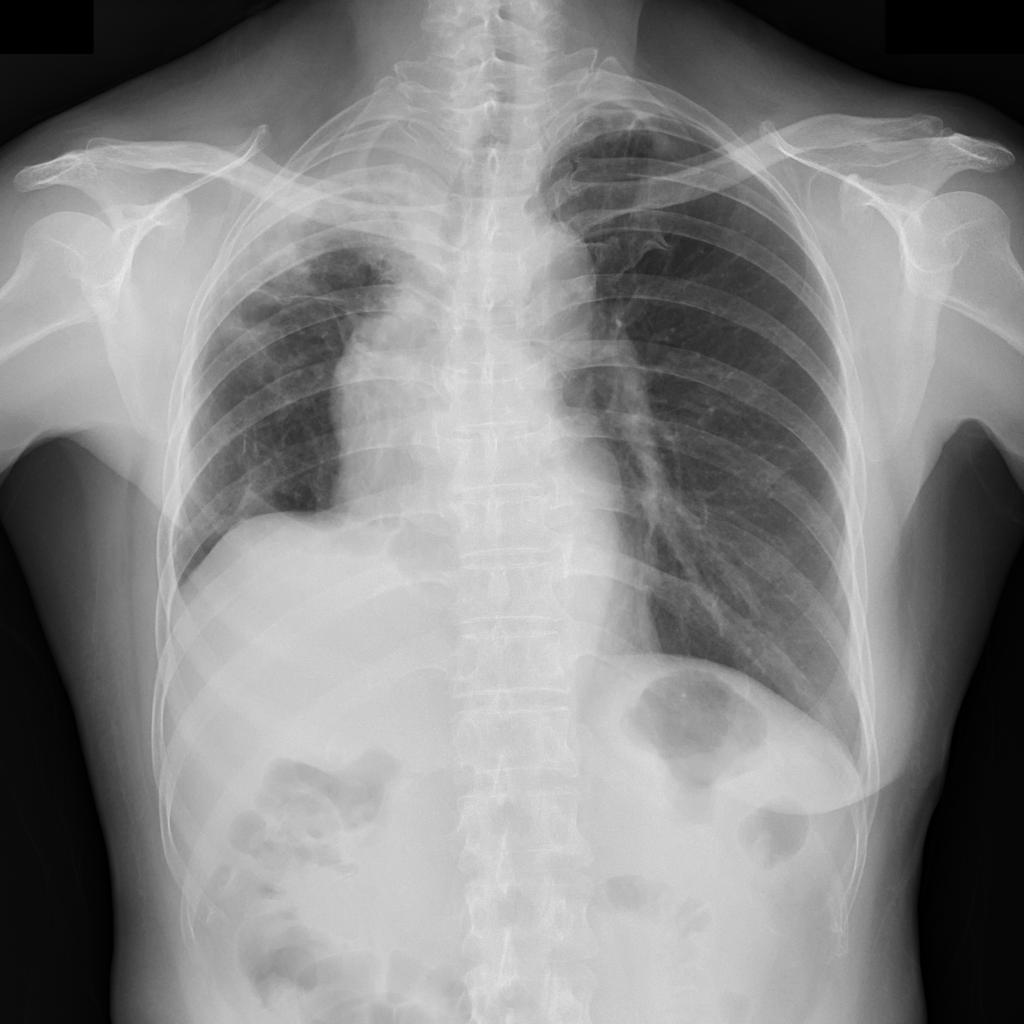Nodule: (338, 282, 470, 509)
